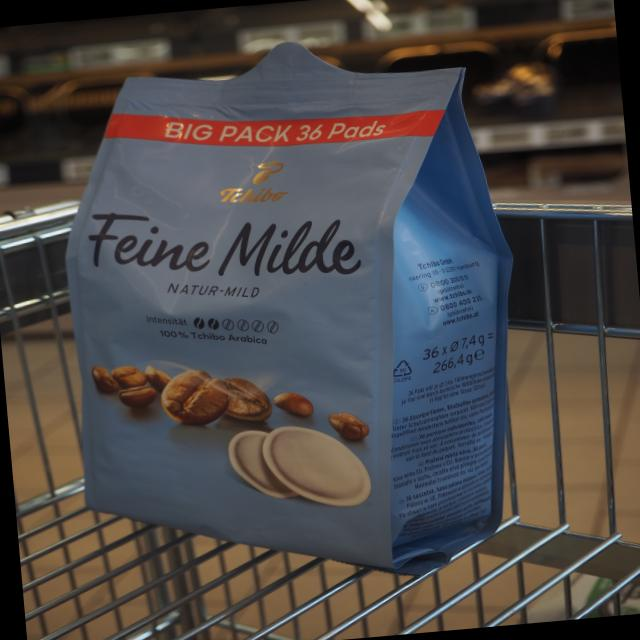FM 36 Pads: (36, 14, 547, 612)
